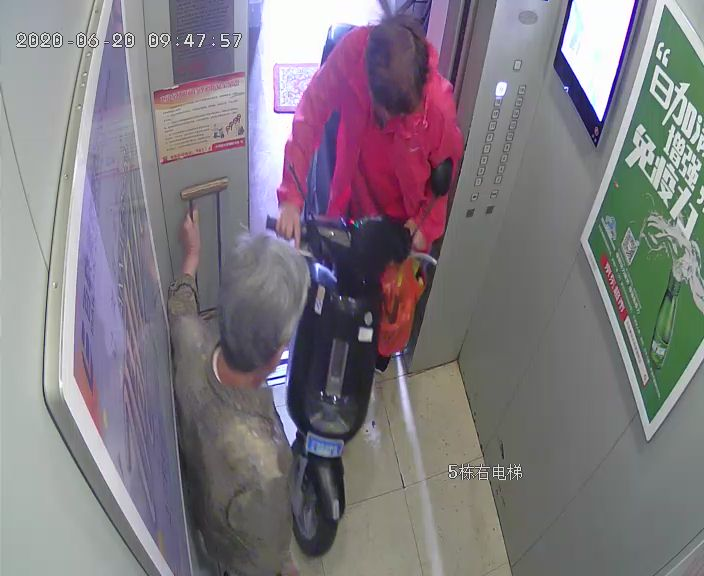Electric-bicycle: (264, 154, 456, 550)
